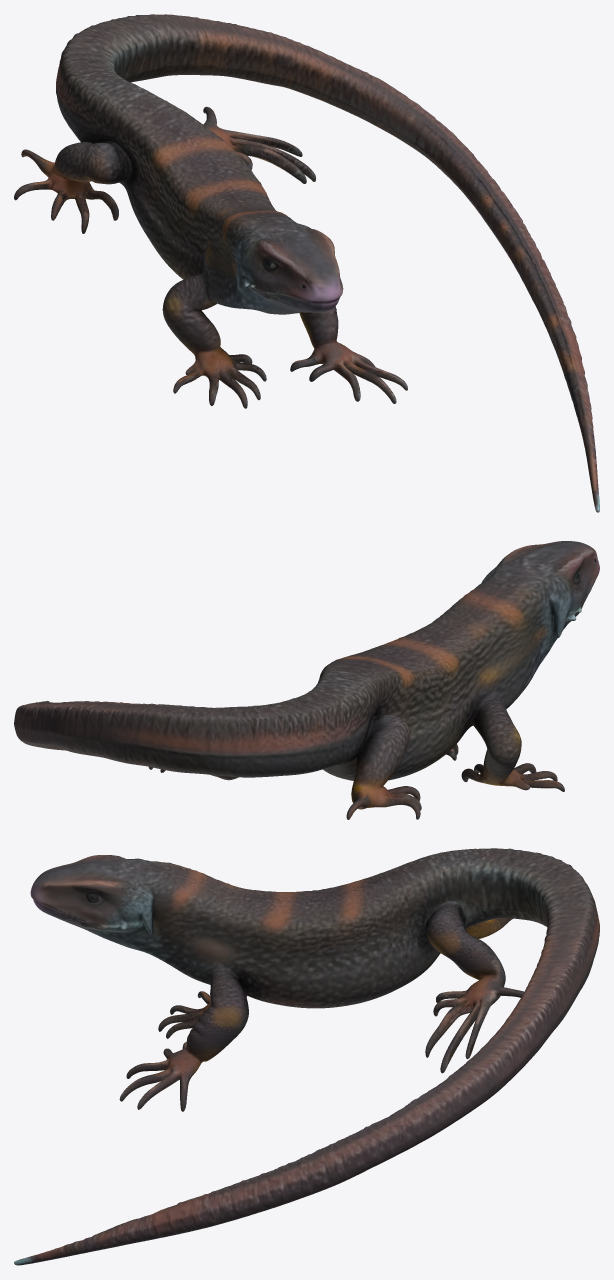
Rendered from Tropidophorus davaoensis.glb.
3 renders of one model, top to bottom at view 1: azimuth 30°, elevation 25°; view 2: azimuth 150°, elevation 25°; view 3: azimuth 270°, elevation 25°, orthographic. The views are drawn at different scales.
Parts seen in each view (by area): view 1: Object_4, Object_5, Object_6; view 2: Object_4, Object_5, Object_6; view 3: Object_5, Object_4, Object_6.
Part boxes in pixels (bbox=[...]): Object_4: bbox=[14, 14, 334, 408]; Object_5: bbox=[56, 14, 599, 512]; Object_6: bbox=[132, 21, 343, 381]; Object_4: bbox=[118, 541, 599, 819]; Object_5: bbox=[14, 552, 594, 807]; Object_6: bbox=[59, 541, 598, 772]; Object_5: bbox=[14, 848, 599, 1265]; Object_4: bbox=[42, 848, 599, 1038]; Object_6: bbox=[30, 856, 591, 1069].
Bounding box in the file's own units: 6.89 × 4.91 × 8.73.
Materials: 1 (1 with a texture image).
